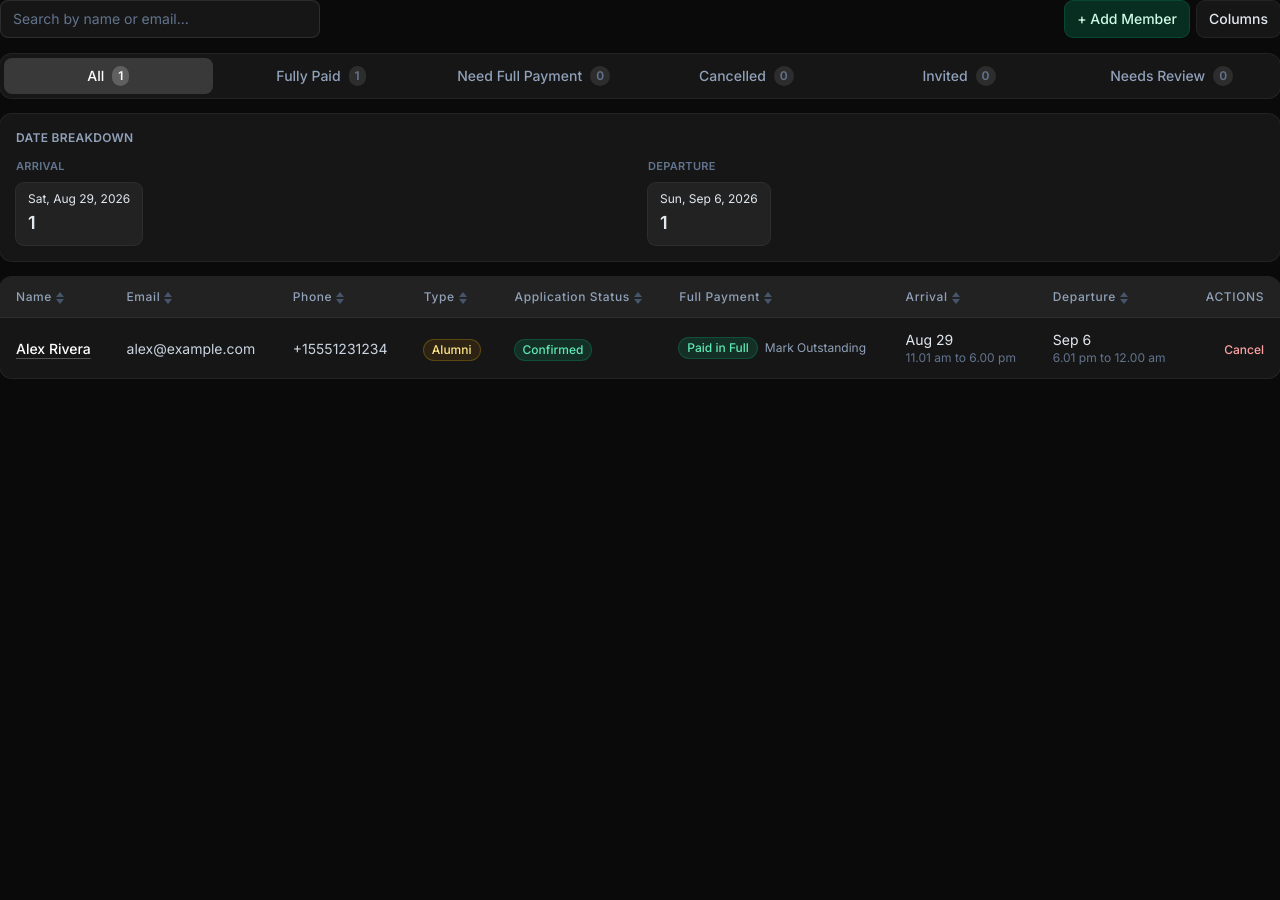
it: MembersTable profile view › opens the full profile with the headshot when a member name is clicked
This screenshot has width=1280, height=900.
Step 1. Click the button "Alex Rivera" → [53, 348], box [16,338,91,358]
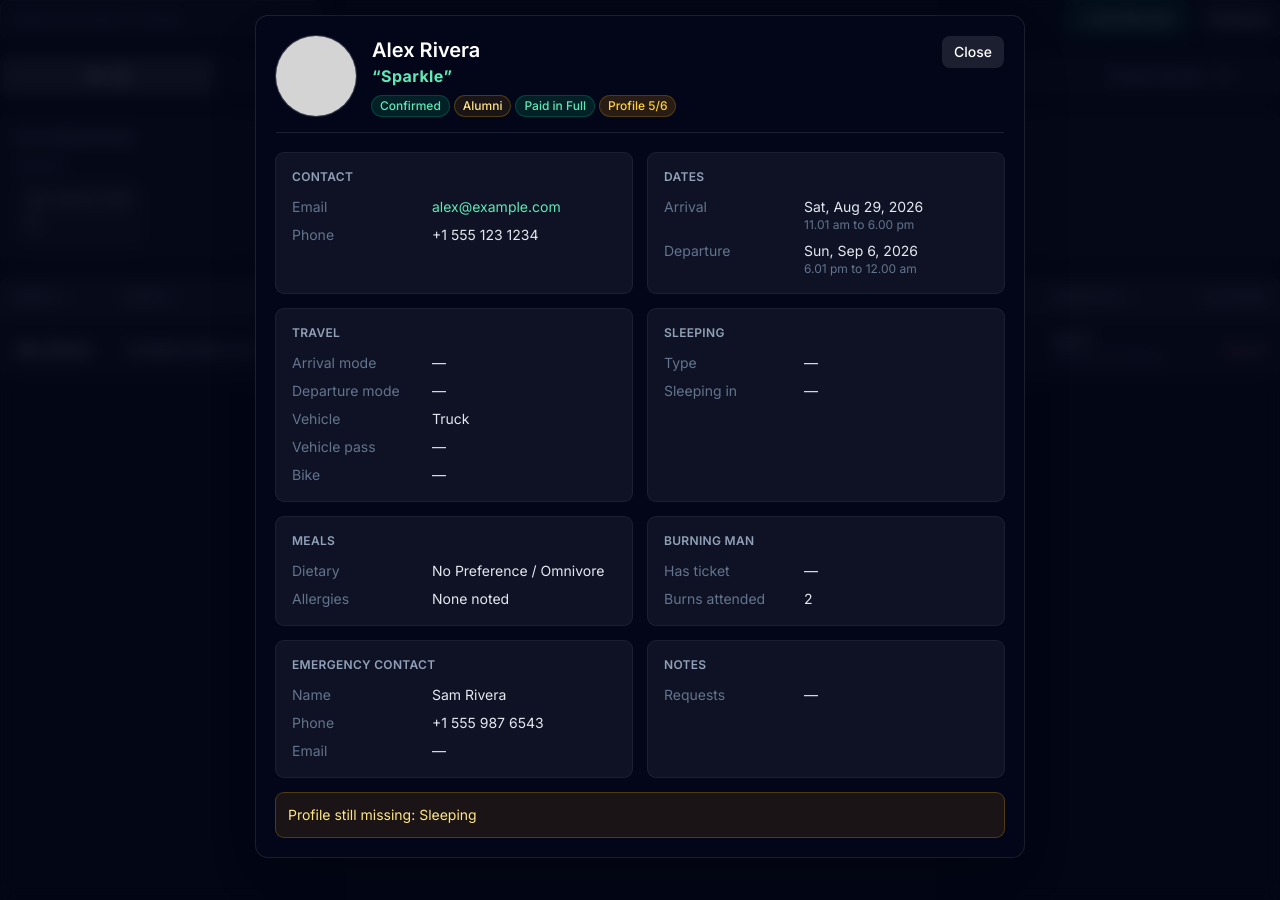
Result: the dialog named "Profile: Alex Rivera" is shown
Result: the text "Profile 5/6" is shown at [600,96,675,116]
Result: the text "Sam Rivera" is shown at [432,686,506,703]
